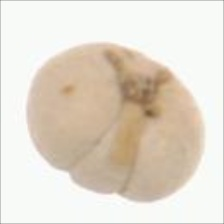L5: (63, 97, 156, 200), (101, 43, 184, 114)
L6: (23, 38, 217, 204)
